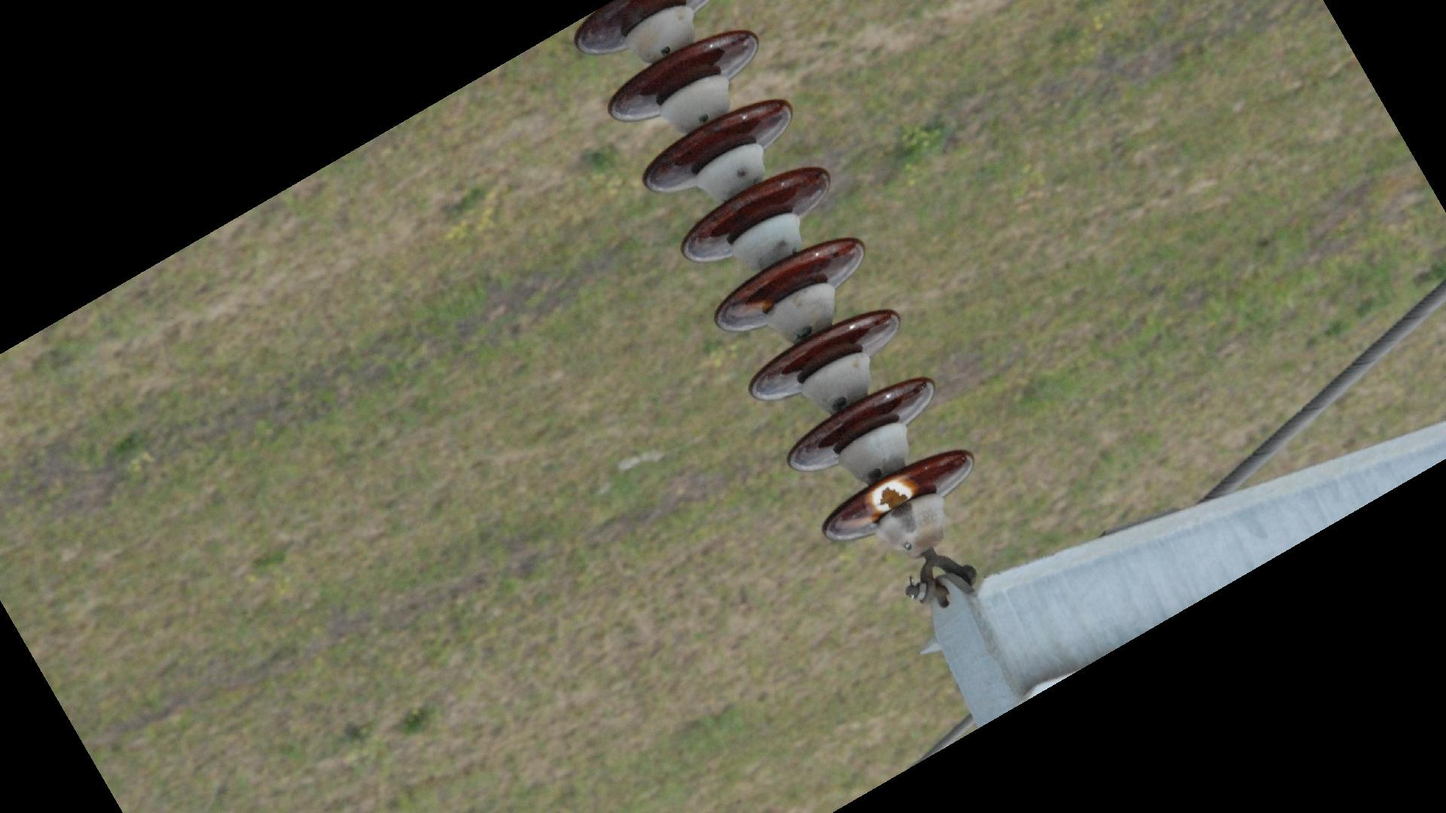insulator: (568, 1, 979, 550)
insulator_flashover: (871, 483, 913, 513), (727, 298, 774, 321)
